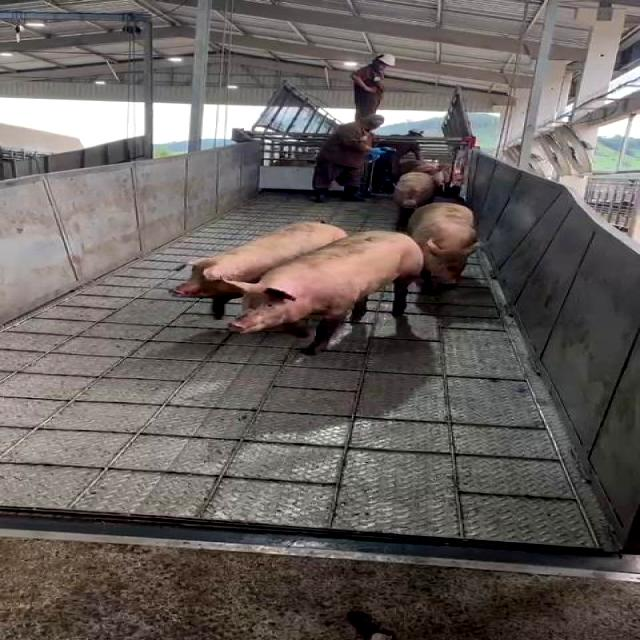pig: (228, 231, 422, 352), (172, 221, 346, 318), (407, 203, 476, 292), (394, 172, 438, 229)
